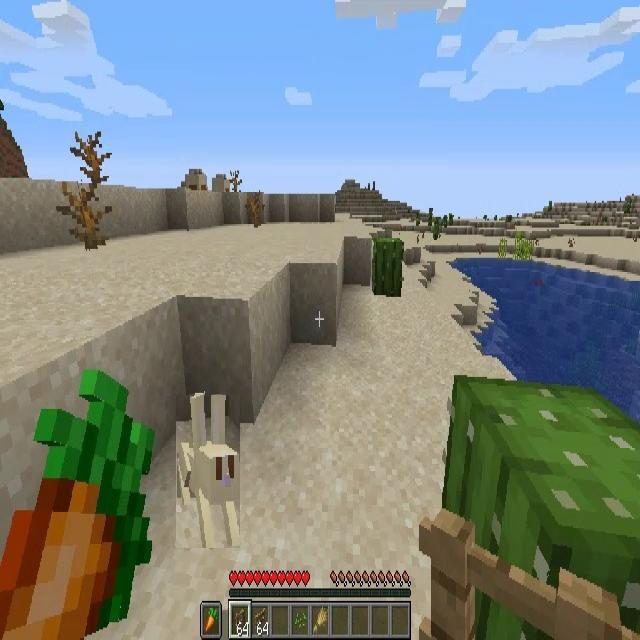rabbit: (176, 395, 240, 548)
